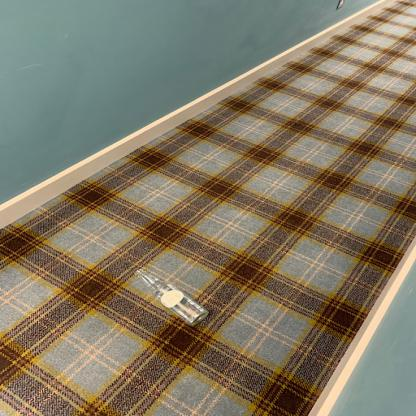trash: (135, 269, 213, 328)
